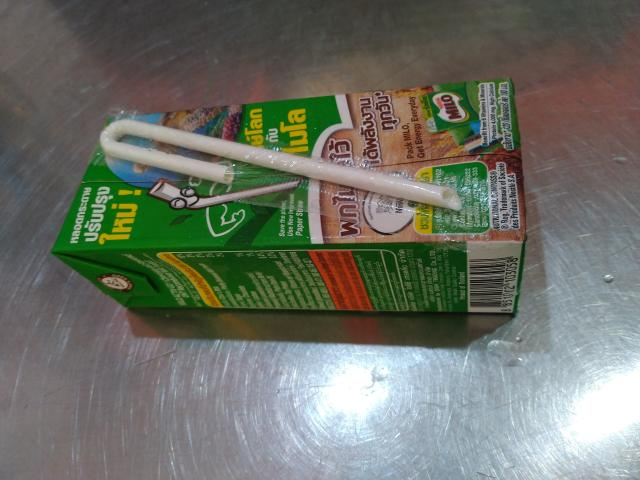drink_box: (45, 67, 548, 329)
